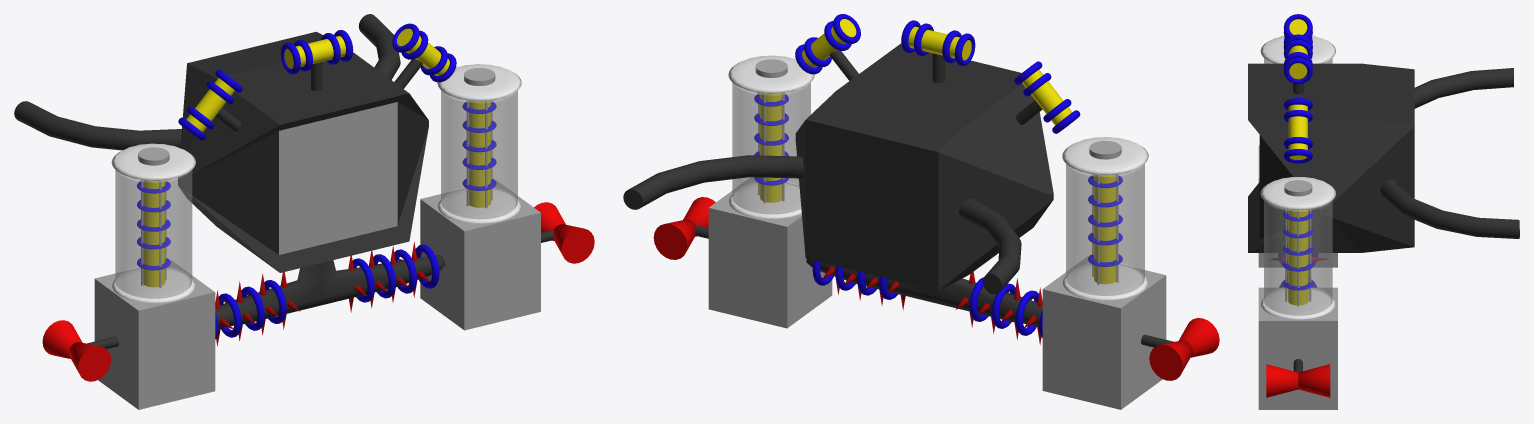
File: TVBossFinale.fbx
The picture shows the model from 3 angles, left to right: view 1: azimuth 30°, elevation 25°; view 2: azimuth 150°, elevation 25°; view 3: azimuth 270°, elevation 25°; orthographic projection. The views are drawn at different scales.
Visible parts, largest first — view 1: polySurface185, pCone37; view 2: polySurface185, pCone37; view 3: polySurface185, pCone37.
Part boxes in pixels (<box>): polySurface185: <box>14,14,553,409</box>; pCone37: <box>42,202,594,381</box>; polySurface185: <box>623,14,1173,409</box>; pCone37: <box>653,197,1219,380</box>; polySurface185: <box>1248,14,1519,409</box>; pCone37: <box>1266,364,1330,397</box>.
Bounding box in the file's own units: 81.35 × 46.28 × 41.36.
